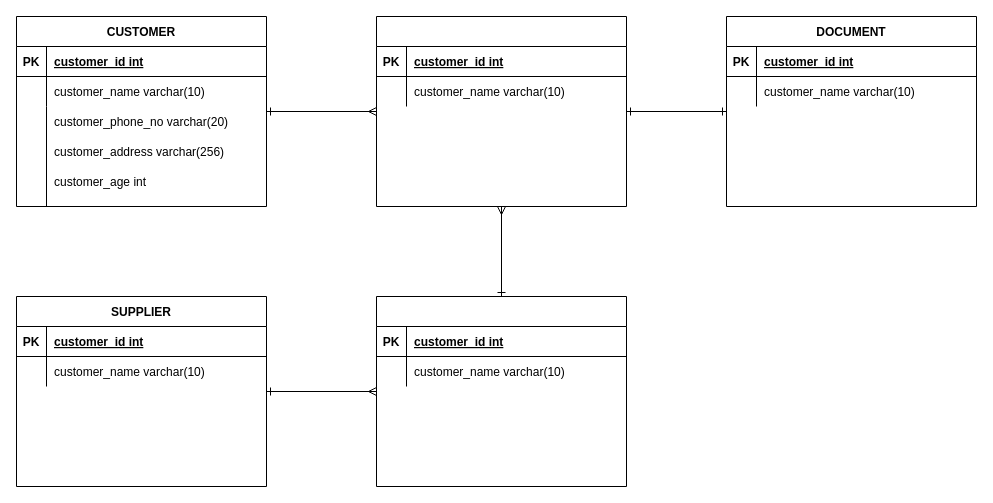
This 993x503 diagram has some shape labels left out. Here are the shapes that lost their labels. From the top down, the box of each, then its label:
(376, 16, 626, 206): CUSTOMER_CONTRACT
(376, 296, 626, 486): CONTRACT
